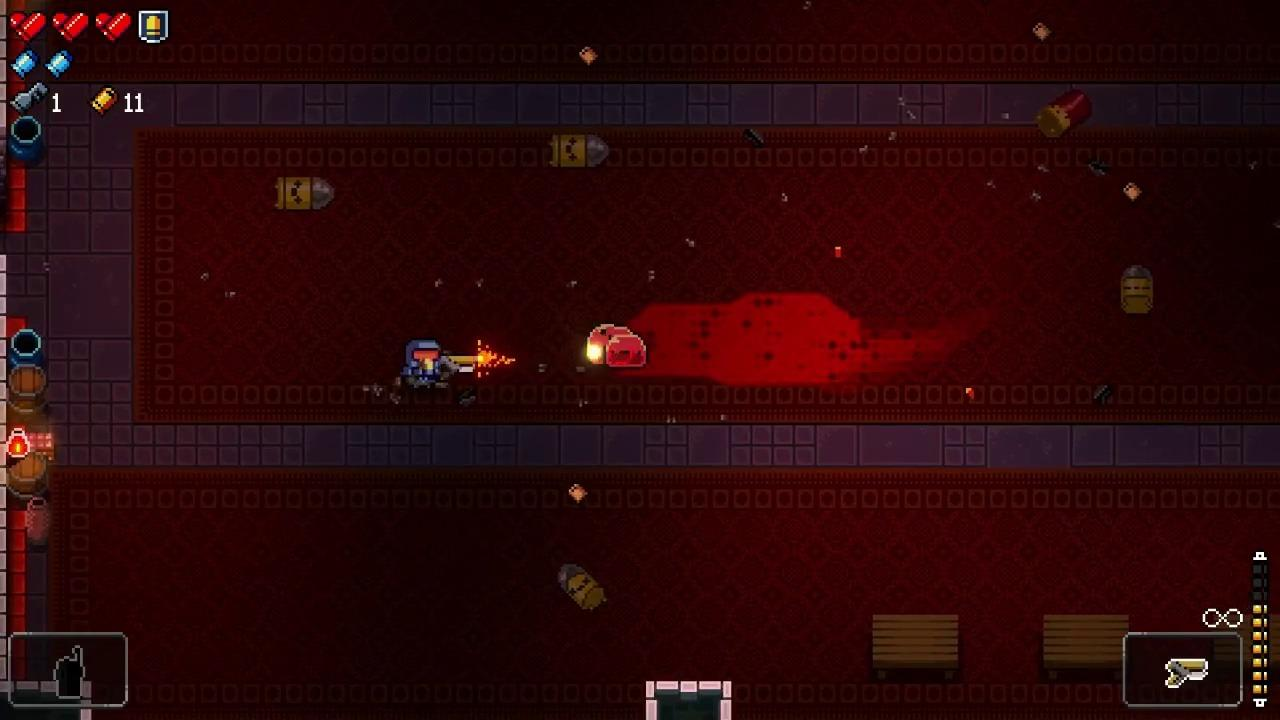blobuloid_m: (604, 334, 648, 368)
dead_bullet_kin: (558, 563, 607, 611), (548, 132, 611, 168), (274, 175, 336, 210), (1121, 264, 1153, 314)
dead_red_shotgun_kin: (1036, 89, 1092, 137)
player: (406, 340, 442, 389)
table: (872, 614, 959, 681), (1043, 615, 1129, 681)
